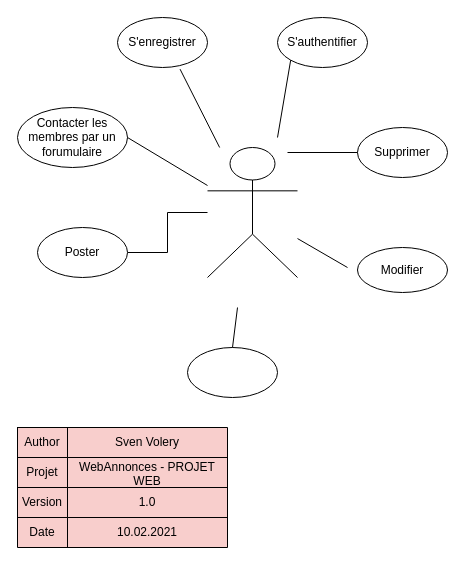
This 465x565 diagram has some shape labels left out. The centre of each missing label's shape, as x and y in pixels:
User: [252,212]
Voir les annonces: [232,372]
